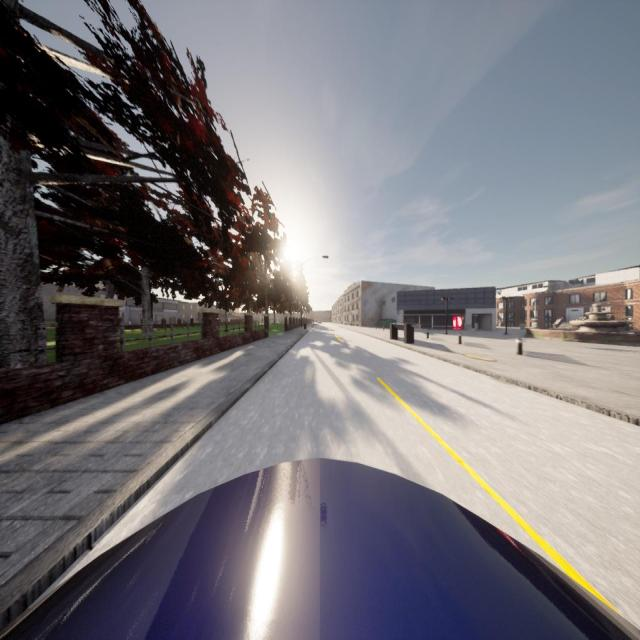Vehicle: (0, 458, 638, 640), (318, 320, 322, 325)
